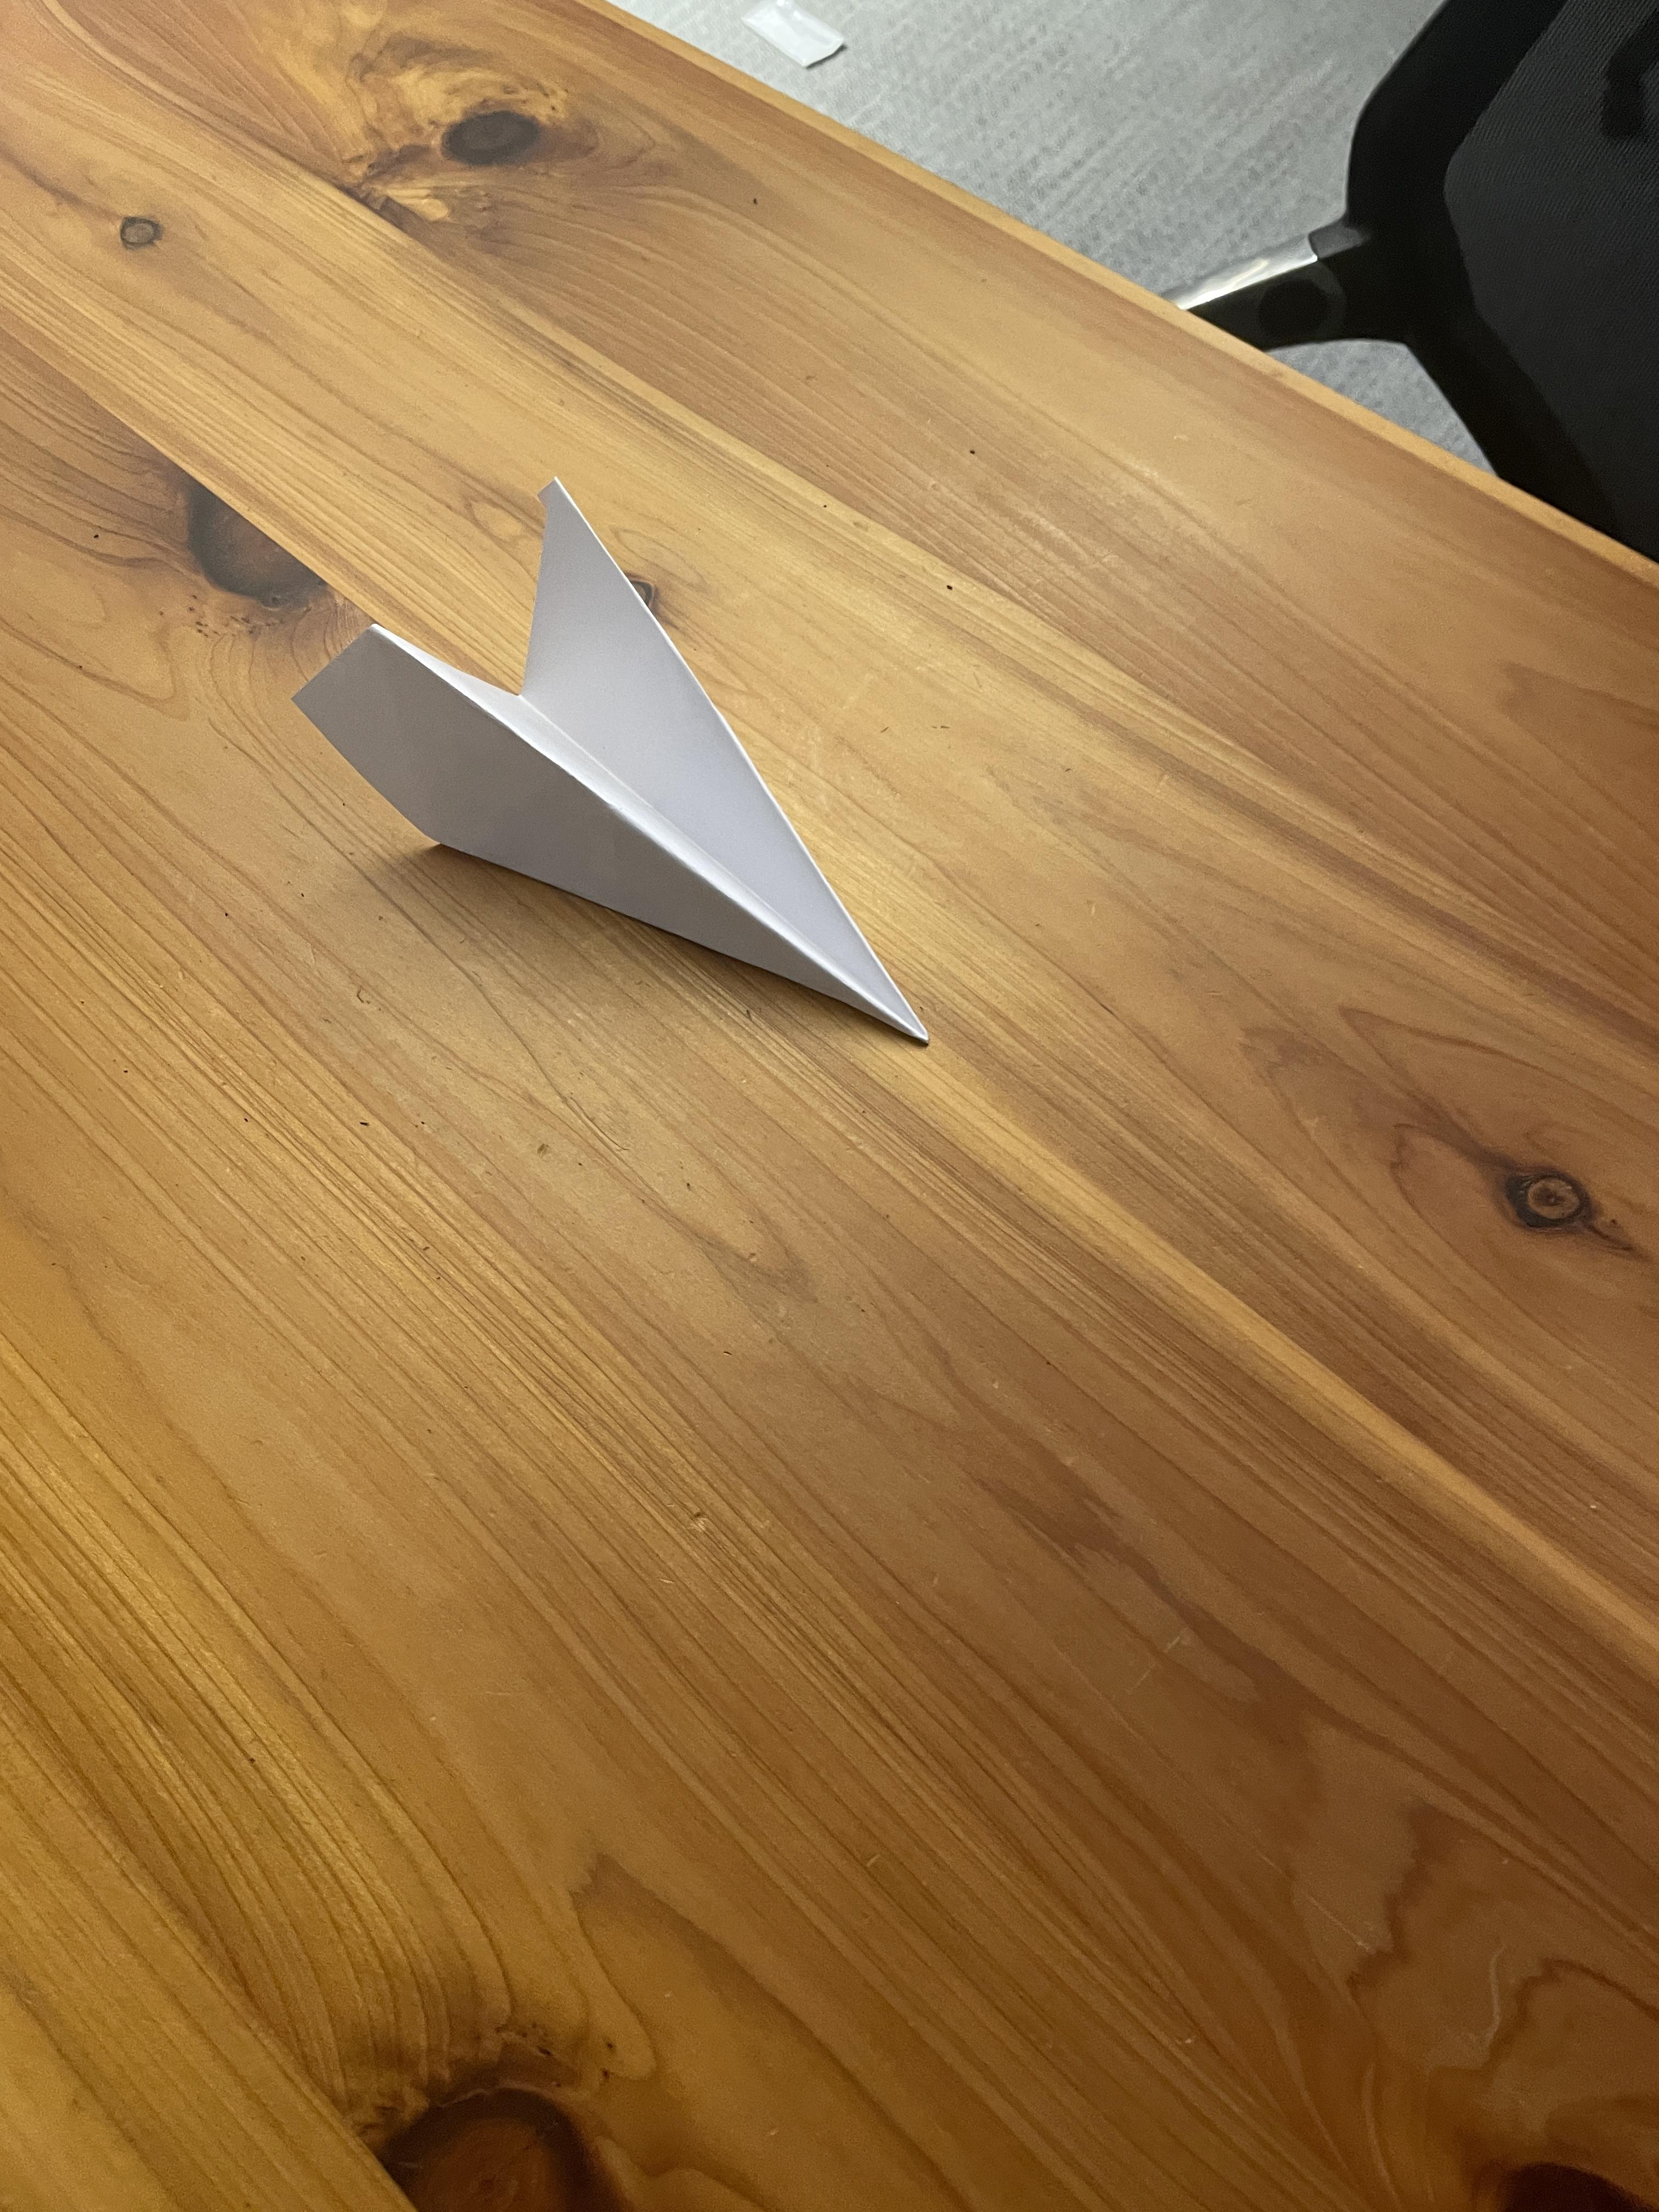shape_3: (253, 369, 1004, 1183)
